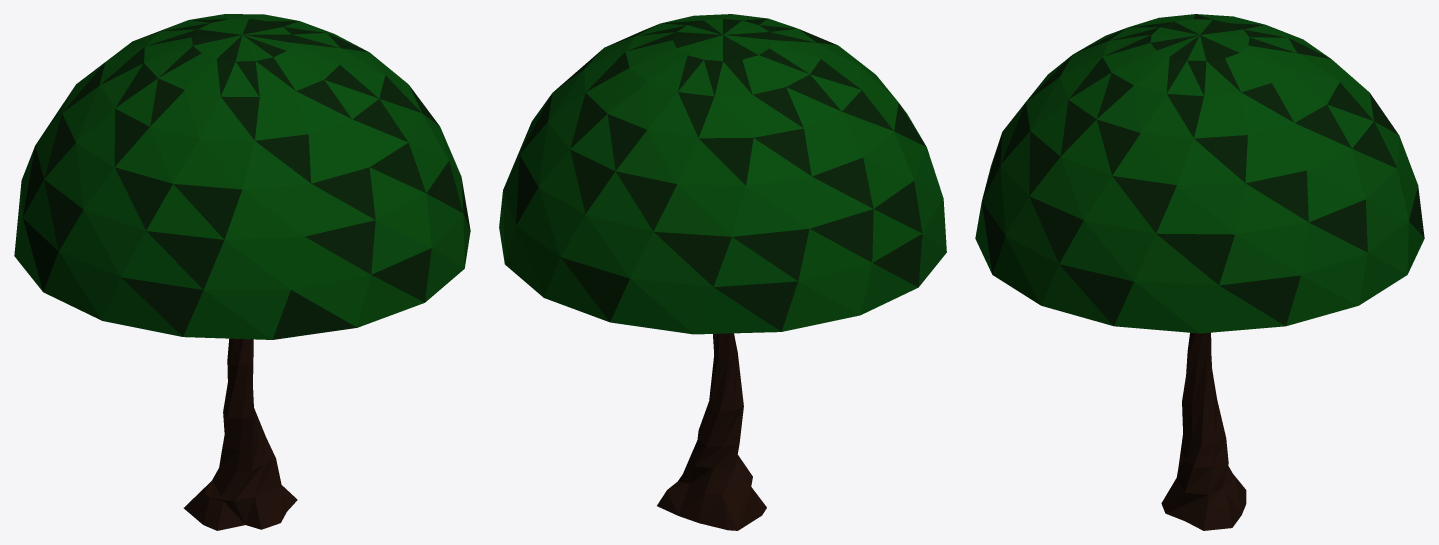
File: Tree03.fbx
The picture shows the model from 3 angles, left to right: view 1: azimuth 30°, elevation 25°; view 2: azimuth 150°, elevation 25°; view 3: azimuth 270°, elevation 25°; orthographic projection. The views are drawn at different scales.
Parts seen in each view (by area): view 1: Crown, Trunk; view 2: Crown, Trunk; view 3: Crown, Trunk.
Part boxes in pixels (x1,y1,x2,y2): Crown: [14, 14, 470, 339]; Trunk: [183, 338, 297, 530]; Crown: [499, 14, 946, 334]; Trunk: [657, 333, 766, 530]; Crown: [975, 14, 1424, 333]; Trunk: [1161, 332, 1246, 530].
Bounding box in the file's own units: 259 × 298 × 259.
